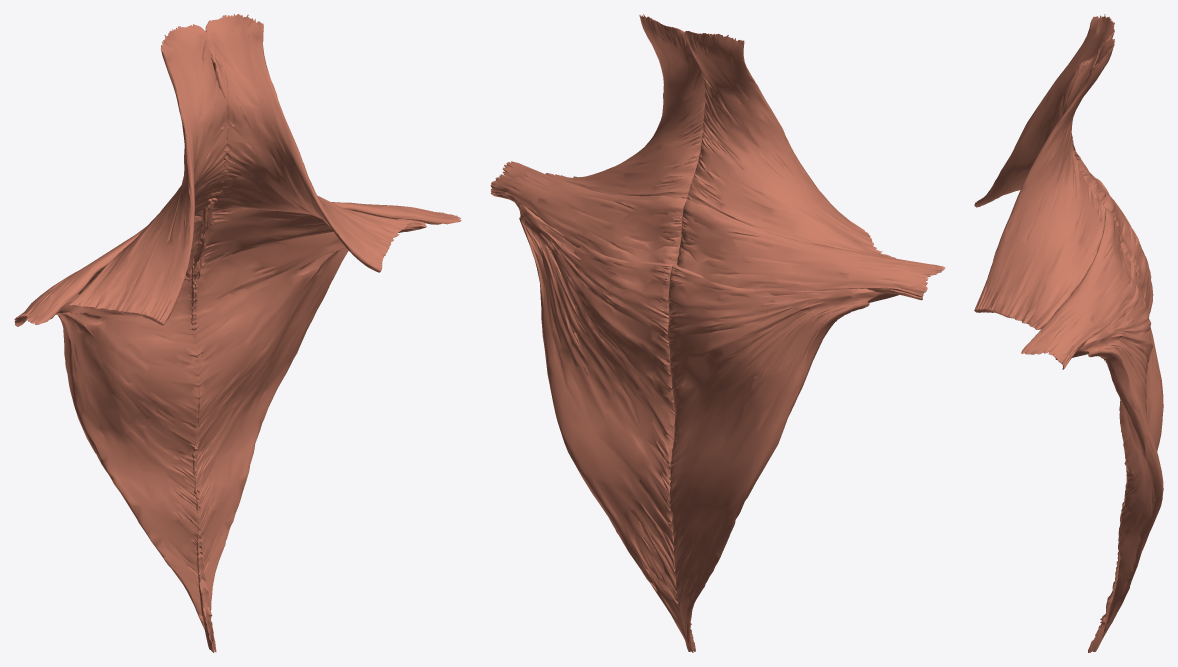
Rendered from trapezius.glb.
3 views of the same model, side by side, from view 1: azimuth 30°, elevation 25°; view 2: azimuth 150°, elevation 25°; view 3: azimuth 270°, elevation 25° (orthographic). The views are drawn at different scales.
Visible parts, largest first — view 1: grp1; view 2: grp1; view 3: grp1.
Part boxes in pixels (left/top/right/bottom): grp1: left=14, top=14, right=461, bottom=652; grp1: left=490, top=14, right=945, bottom=652; grp1: left=974, top=14, right=1163, bottom=652.
Size of the model in its own units: 0.3265 by 0.4522 by 0.1252.
